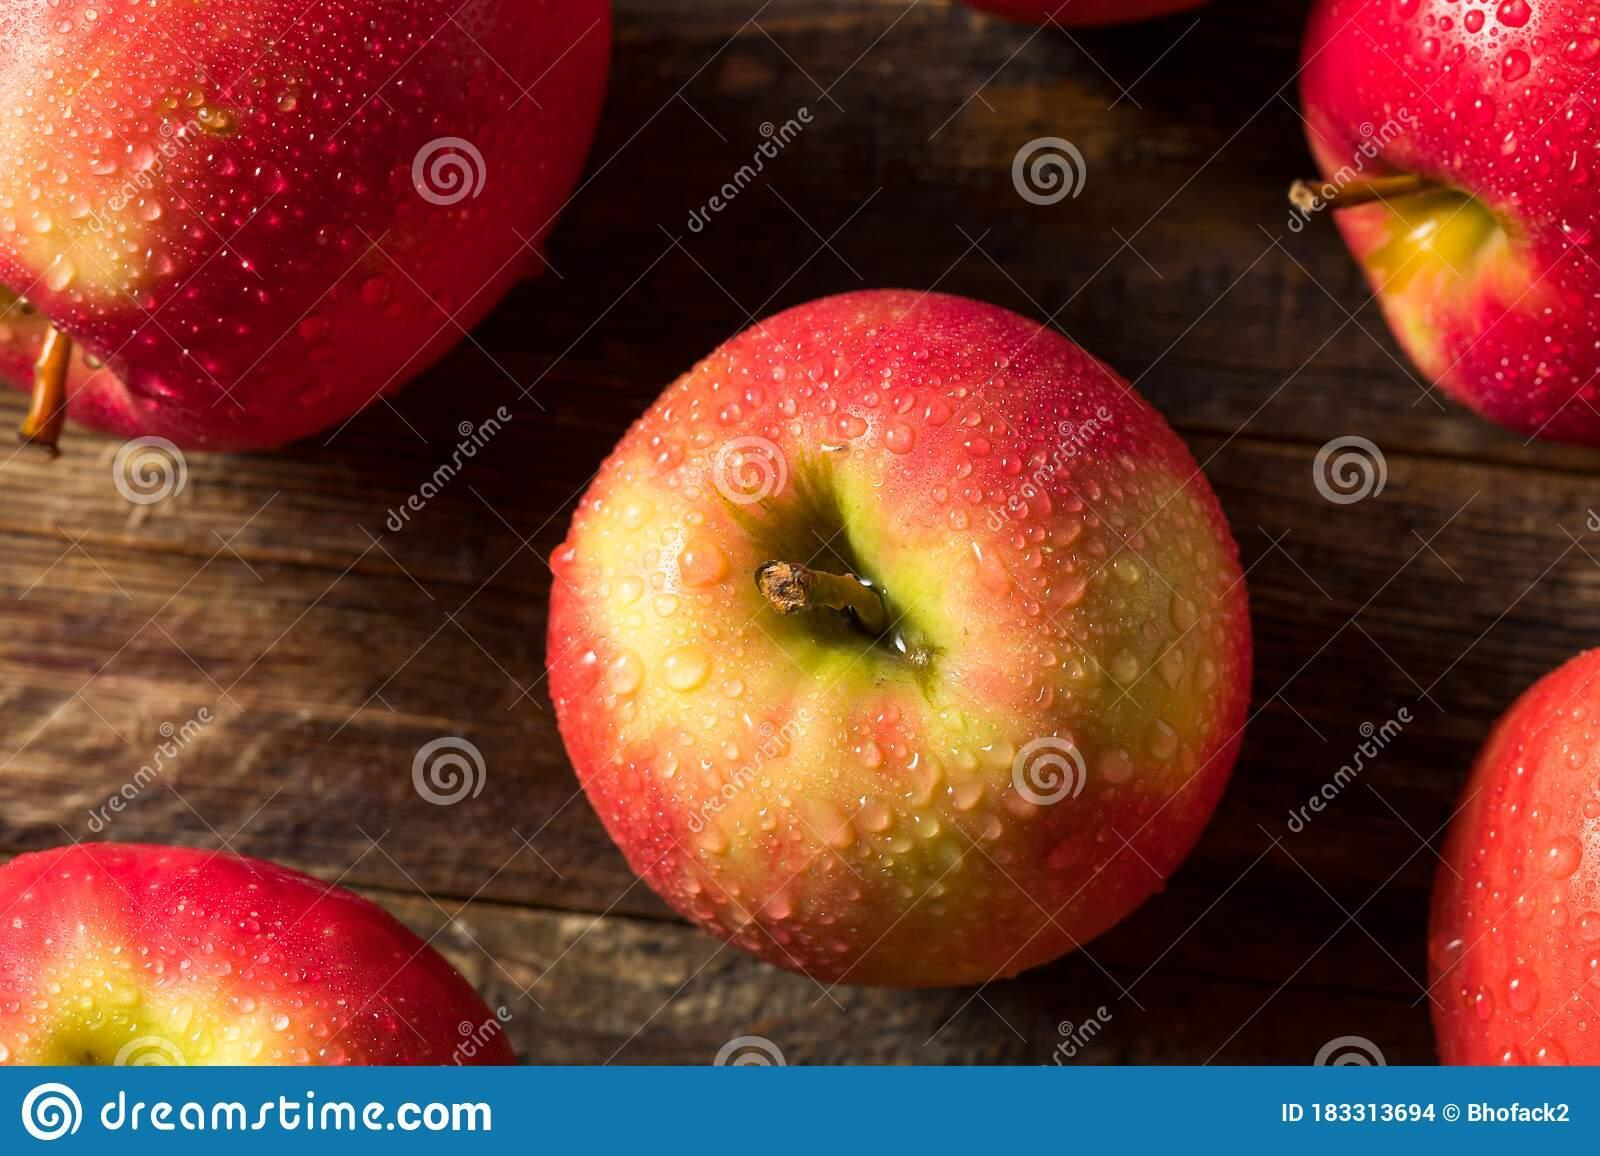apple: (553, 284, 1263, 986), (2, 4, 614, 449), (1294, 7, 1598, 448), (2, 842, 519, 1065), (1430, 649, 1599, 1068)
